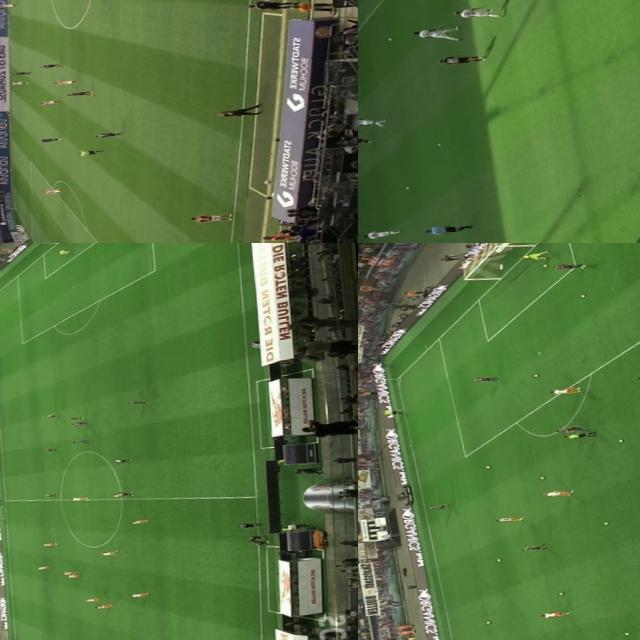ball: (578, 292, 588, 298), (557, 590, 565, 596), (530, 371, 538, 376), (484, 619, 492, 624), (600, 520, 608, 524), (622, 631, 630, 635), (616, 438, 624, 442), (541, 262, 548, 266), (434, 142, 440, 146), (384, 36, 390, 39), (494, 558, 502, 560), (85, 498, 92, 500), (483, 464, 490, 466), (402, 186, 408, 188), (538, 476, 544, 478)
player: (414, 23, 461, 42), (455, 4, 502, 20), (436, 51, 483, 64), (186, 212, 230, 224), (360, 227, 398, 238), (516, 250, 548, 260), (548, 386, 584, 394), (552, 261, 586, 269), (554, 424, 588, 432), (544, 488, 574, 497), (91, 130, 124, 138), (358, 116, 383, 126), (540, 610, 570, 618), (64, 90, 96, 97), (521, 543, 549, 551), (474, 374, 499, 382), (128, 590, 152, 598), (41, 186, 68, 193), (54, 78, 80, 84), (38, 135, 60, 142), (38, 62, 62, 68), (426, 504, 454, 509), (126, 398, 148, 404), (100, 549, 118, 556), (70, 420, 90, 426), (495, 516, 525, 520), (94, 602, 113, 608), (114, 491, 136, 496), (40, 540, 58, 546), (111, 457, 132, 462), (130, 518, 147, 524), (38, 99, 58, 104), (56, 248, 70, 255), (11, 70, 30, 75), (43, 412, 58, 418), (72, 438, 90, 443), (70, 495, 88, 500), (358, 135, 369, 143), (40, 492, 54, 498), (66, 572, 80, 578), (86, 596, 100, 602), (8, 80, 28, 84), (0, 2, 16, 7), (40, 446, 56, 450), (62, 570, 76, 574), (67, 415, 84, 418), (35, 566, 49, 568)
